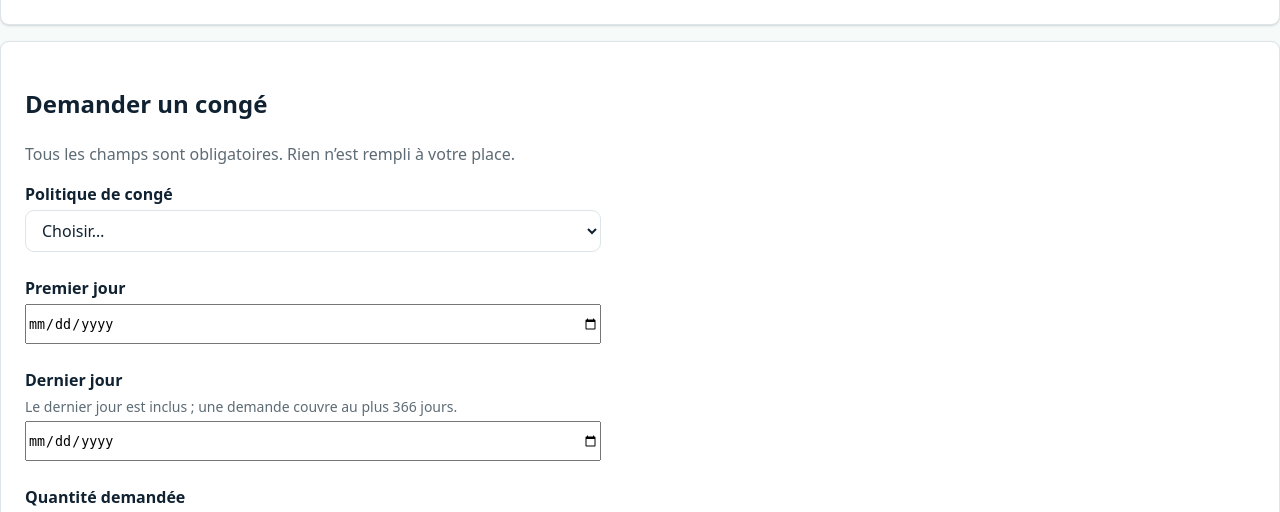
Test: MVP-041A my leave (fr) › shows the not eligible (service) state with its stable message
(page scrolled)
Select "Congé annuel (ANNUAL)" in the dropdown labelled "Politique de congé" at coordinates (313, 231), box [25, 210, 601, 252]
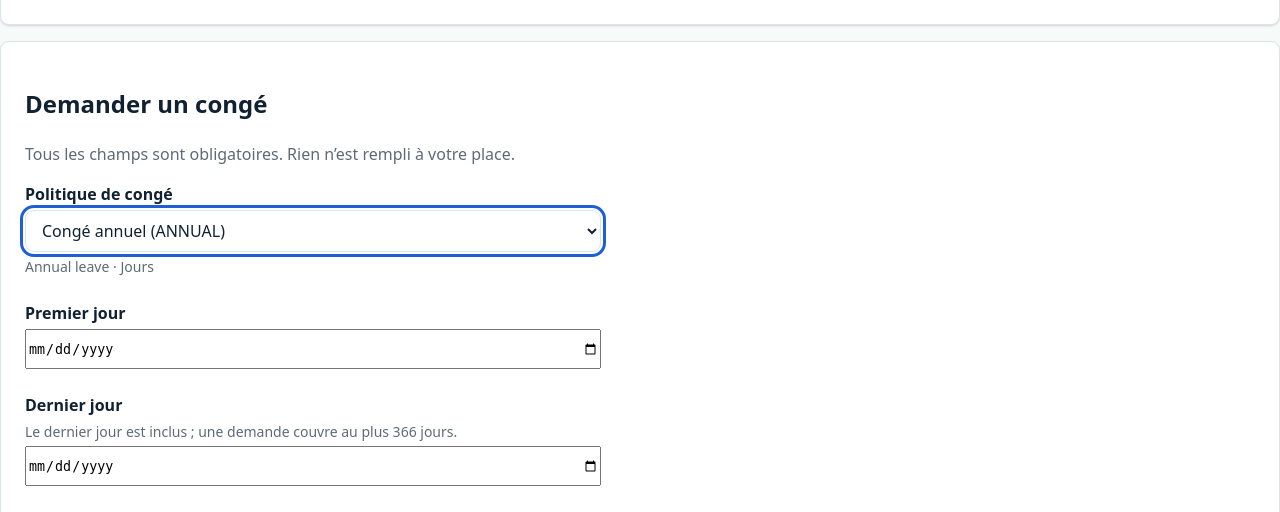
Type "2026-10-20" into the date field labelled "Premier jour" at coordinates (313, 349), box [25, 329, 601, 369]
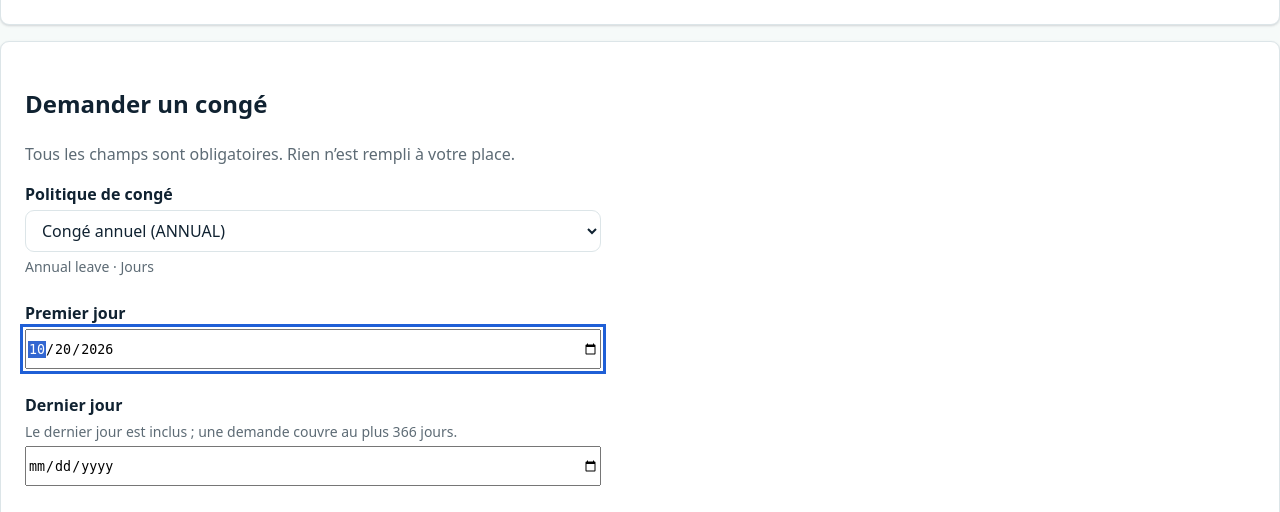
Type "2026-10-22" into the date field labelled "Dernier jour" at coordinates (313, 466), box [25, 446, 601, 486]
(page scrolled)
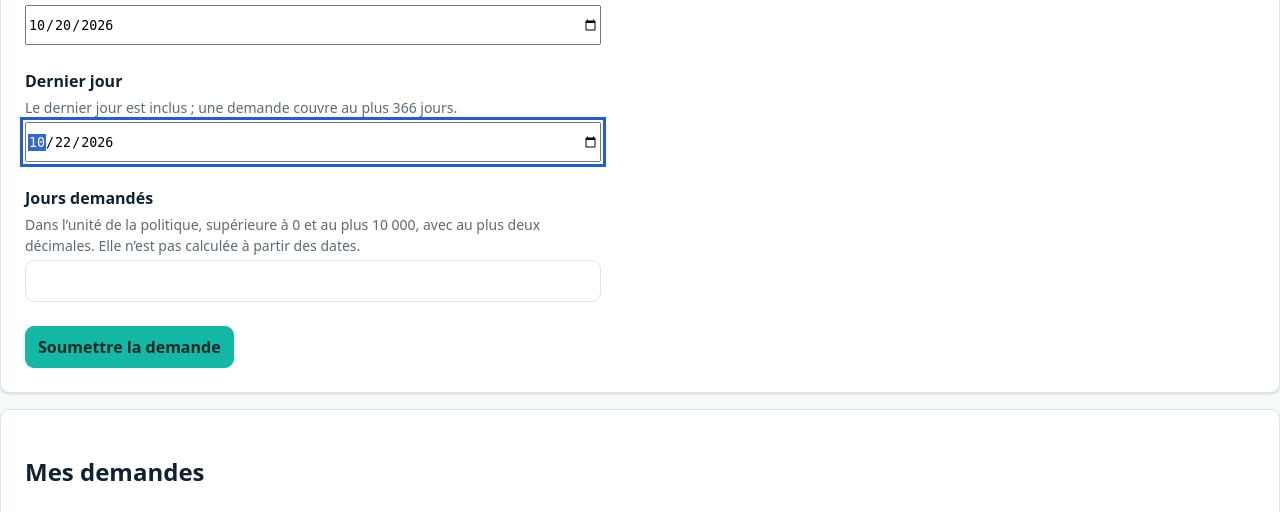
Type "2,5" into the field at coordinates (313, 281), box [25, 260, 601, 302]
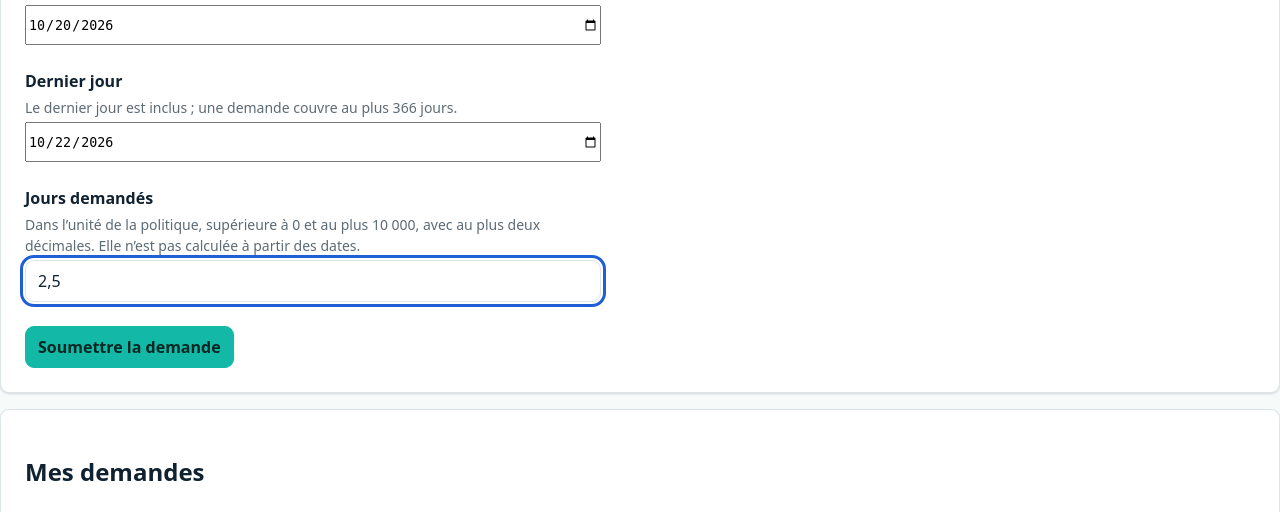
Click the button "Soumettre la demande" at coordinates (129, 347), box [25, 326, 234, 368]
(page scrolled)
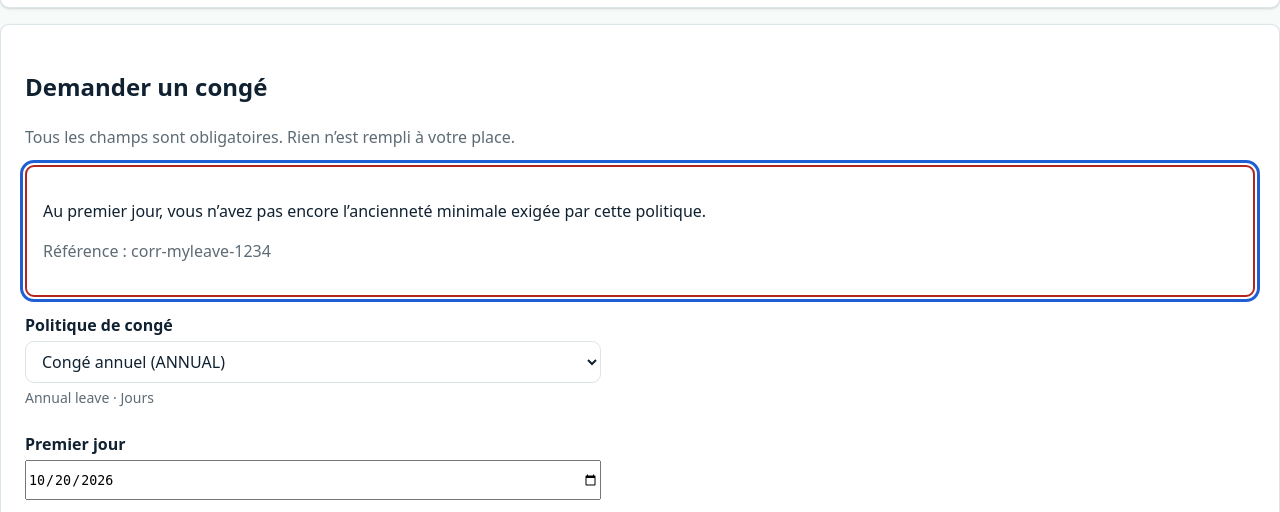
Expected: the message with test id "request-error" does not show "<b>", [25, 165, 1255, 297]
Expected: the message with test id "request-error" shows "Au premier jour, vous n’avez pas encore l’ancienneté minimale exigée par cette politique.", [43, 200, 706, 222]
Expected: the message with test id "request-error" shows "corr-myleave-1234", [43, 240, 271, 262]
